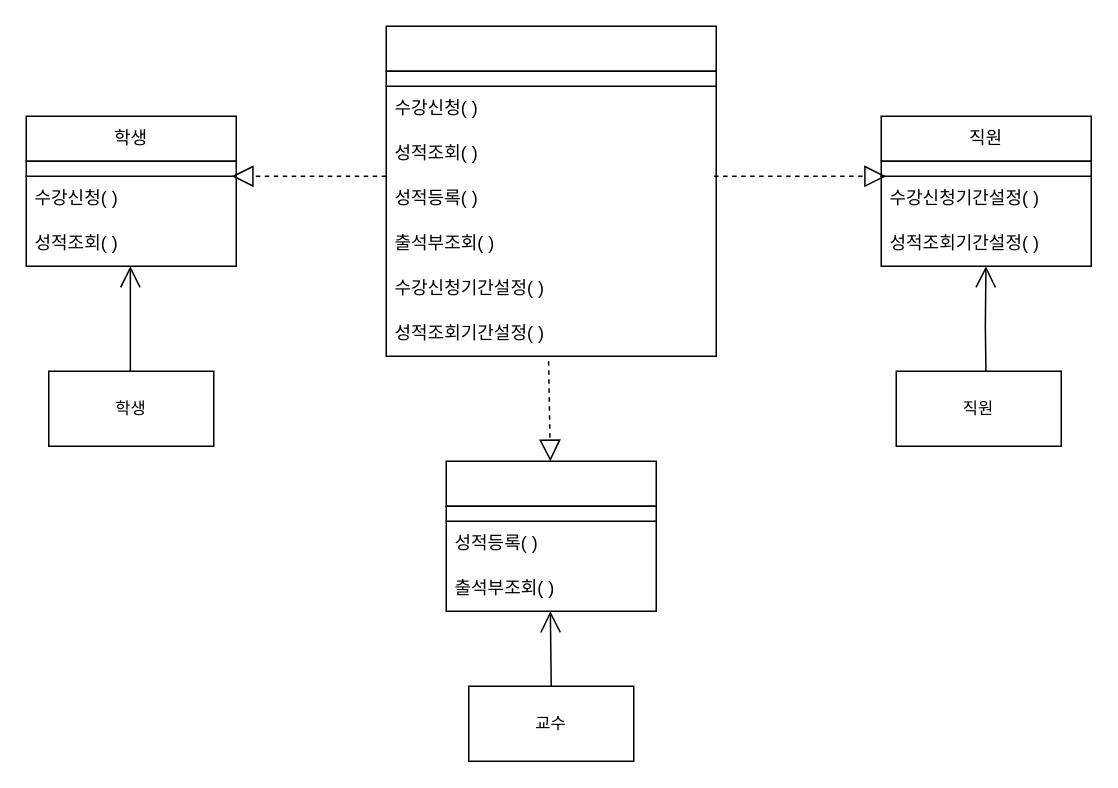
Image size: 1118x788. Some labels were removed from this diagram. Here are the shapes that lost their labels. From the top down, the box of each, then its label:
(385, 25, 716, 356): 학사관리
(445, 460, 656, 611): List
